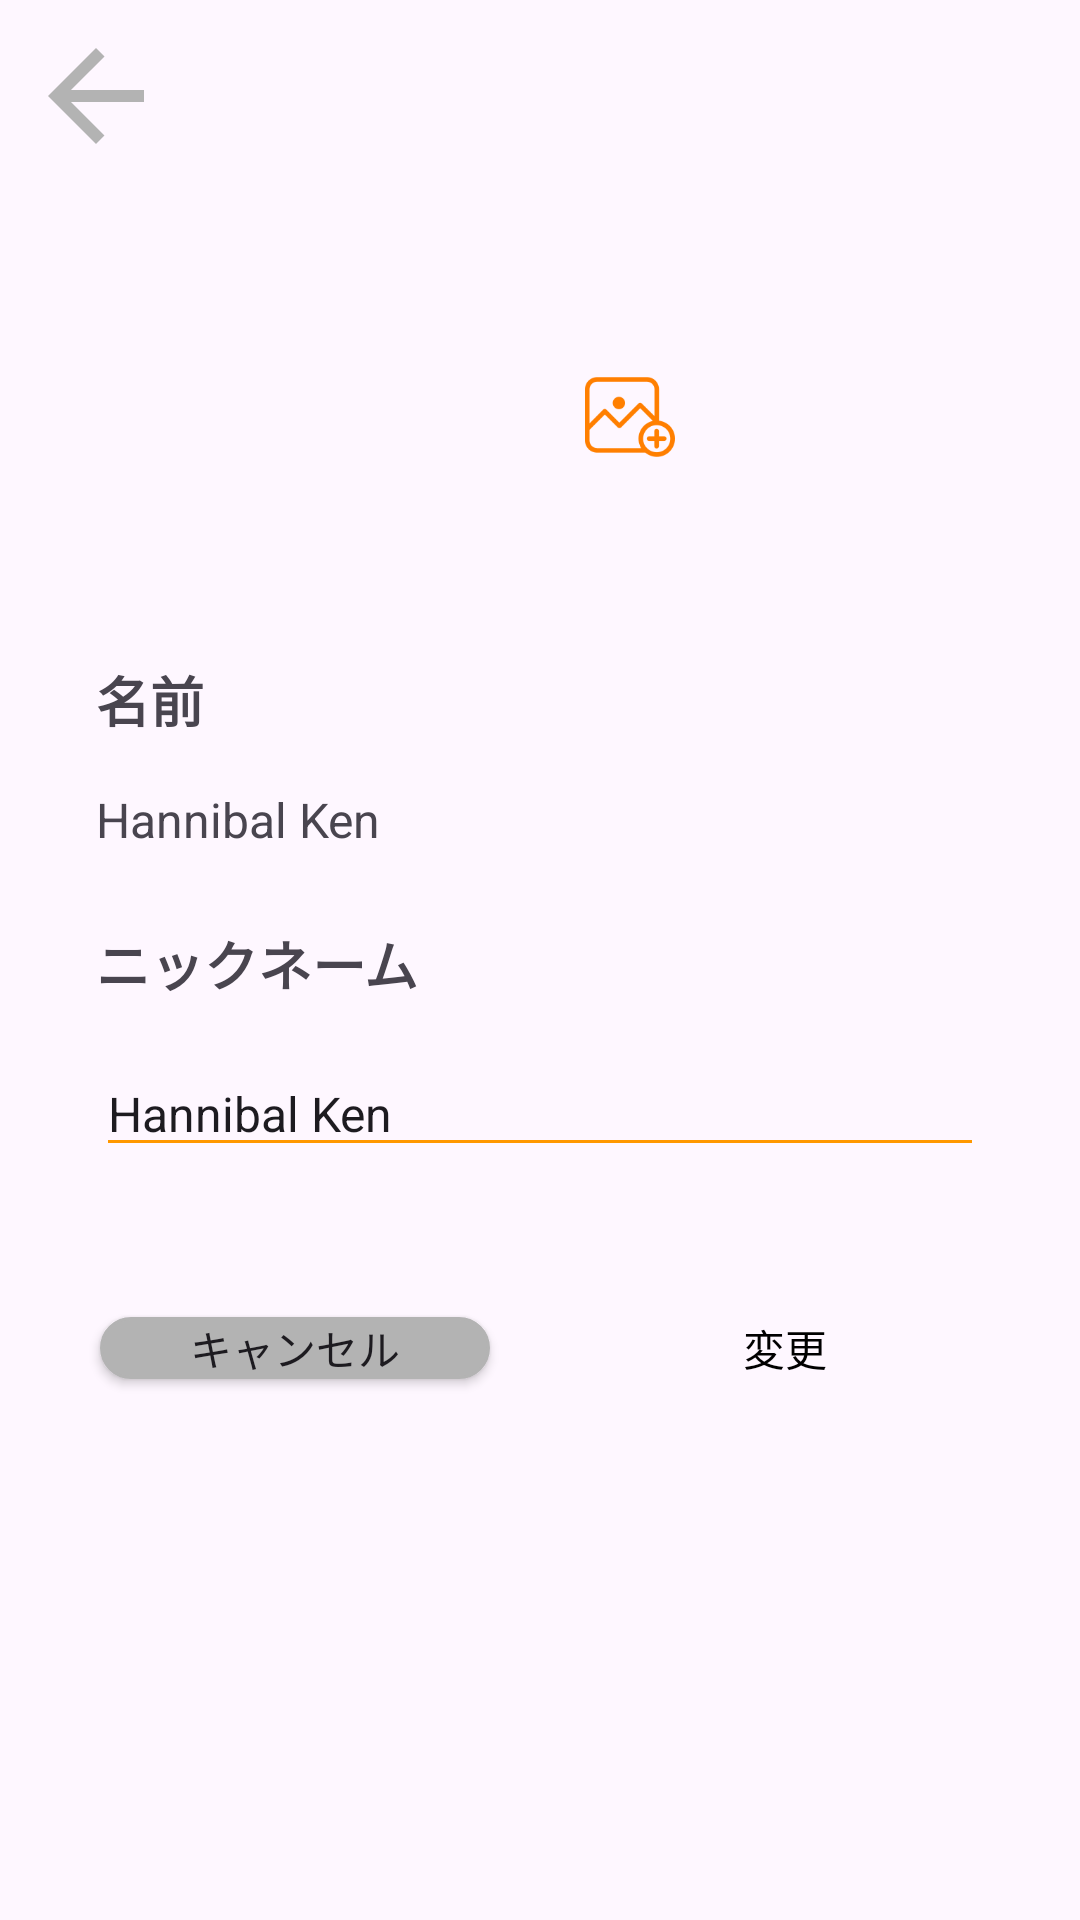

Screen size 1080px x 1920px. Icon name, then its center in pixels as (x,y):
arrow back: (96,96)
photo: (630,417)
